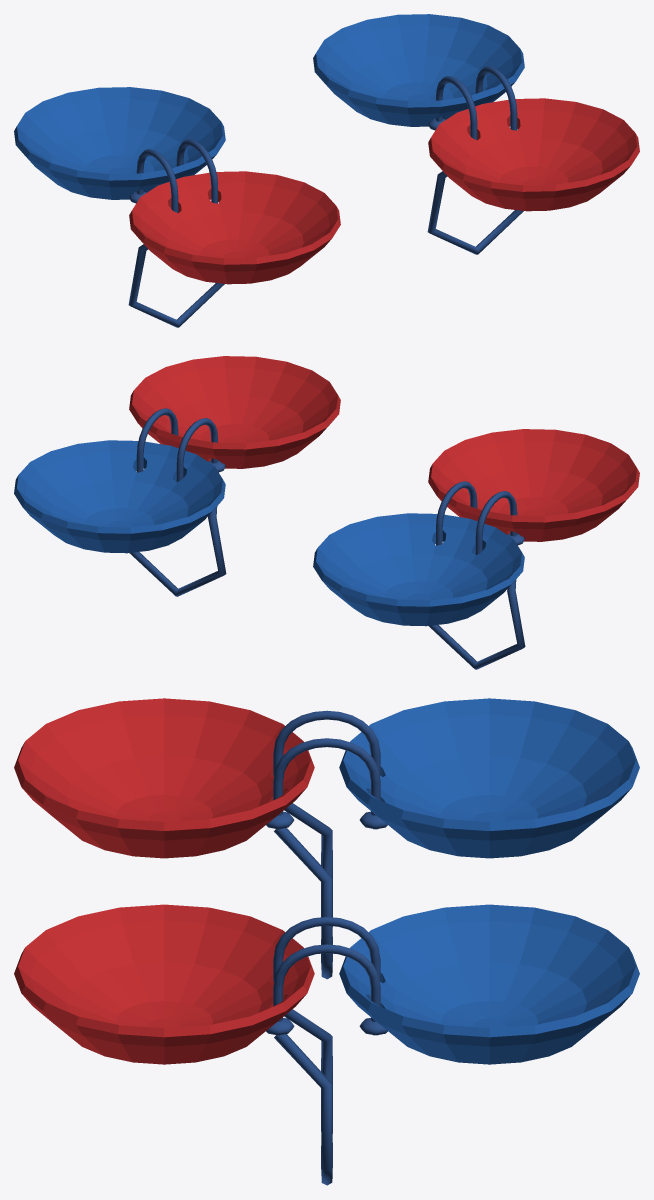
File: A-NEW-20261026-CASTANETS-PAIR-001_LOD2_R4.glb
The picture shows the model from 3 angles, top to bottom: view 1: azimuth 30°, elevation 25°; view 2: azimuth 150°, elevation 25°; view 3: azimuth 270°, elevation 25°; orthographic projection. The views are drawn at different scales.
Parts seen in each view (by area): view 1: right cup shell 0, left cup shell 0, left cup shell 1, right cup shell 1, right finger elastic loop, left finger elastic loop, left hinge elastic -0.008, right hinge elastic -0.008, right hinge elastic 0.008, left hinge elastic 0.008; view 2: right cup shell 1, left cup shell 1, left cup shell 0, right cup shell 0, left finger elastic loop, right finger elastic loop, left hinge elastic -0.008, right hinge elastic -0.008, right hinge elastic 0.008, left hinge elastic 0.008; view 3: left cup shell 0, left cup shell 1, right cup shell 0, right cup shell 1, right finger elastic loop, left finger elastic loop, right hinge elastic 0.008, left hinge elastic 0.008, left hinge elastic -0.008, right hinge elastic -0.008.
Part boxes in pixels (bbox=[...]): right cup shell 0: bbox=[428, 98, 639, 211]; left cup shell 0: bbox=[129, 171, 340, 284]; left cup shell 1: bbox=[14, 87, 225, 199]; right cup shell 1: bbox=[313, 14, 524, 126]; right finger elastic loop: bbox=[427, 171, 523, 254]; left finger elastic loop: bbox=[128, 244, 224, 327]; left hinge elastic -0.008: bbox=[136, 149, 178, 212]; right hinge elastic -0.008: bbox=[436, 76, 477, 139]; right hinge elastic 0.008: bbox=[475, 66, 517, 130]; left hinge elastic 0.008: bbox=[176, 139, 217, 203]; right cup shell 1: bbox=[14, 440, 225, 553]; left cup shell 1: bbox=[313, 513, 524, 626]; left cup shell 0: bbox=[428, 429, 639, 541]; right cup shell 0: bbox=[129, 356, 340, 468]; left finger elastic loop: bbox=[429, 579, 525, 669]; right finger elastic loop: bbox=[129, 506, 226, 596]; left hinge elastic -0.008: bbox=[475, 491, 517, 554]; right hinge elastic -0.008: bbox=[176, 418, 217, 481]; right hinge elastic 0.008: bbox=[136, 408, 178, 472]; left hinge elastic 0.008: bbox=[436, 481, 477, 545]; left cup shell 0: bbox=[14, 698, 314, 858]; left cup shell 1: bbox=[339, 698, 639, 858]; right cup shell 0: bbox=[14, 904, 314, 1064]; right cup shell 1: bbox=[339, 904, 639, 1064]; right finger elastic loop: bbox=[274, 1009, 332, 1185]; left finger elastic loop: bbox=[274, 803, 332, 979]; right hinge elastic 0.008: bbox=[273, 944, 380, 1035]; left hinge elastic 0.008: bbox=[273, 738, 380, 829]; left hinge elastic -0.008: bbox=[273, 710, 380, 775]; right hinge elastic -0.008: bbox=[273, 917, 380, 981].
Bounding box in the file's own units: 0.194 × 0.0692 × 0.154.
